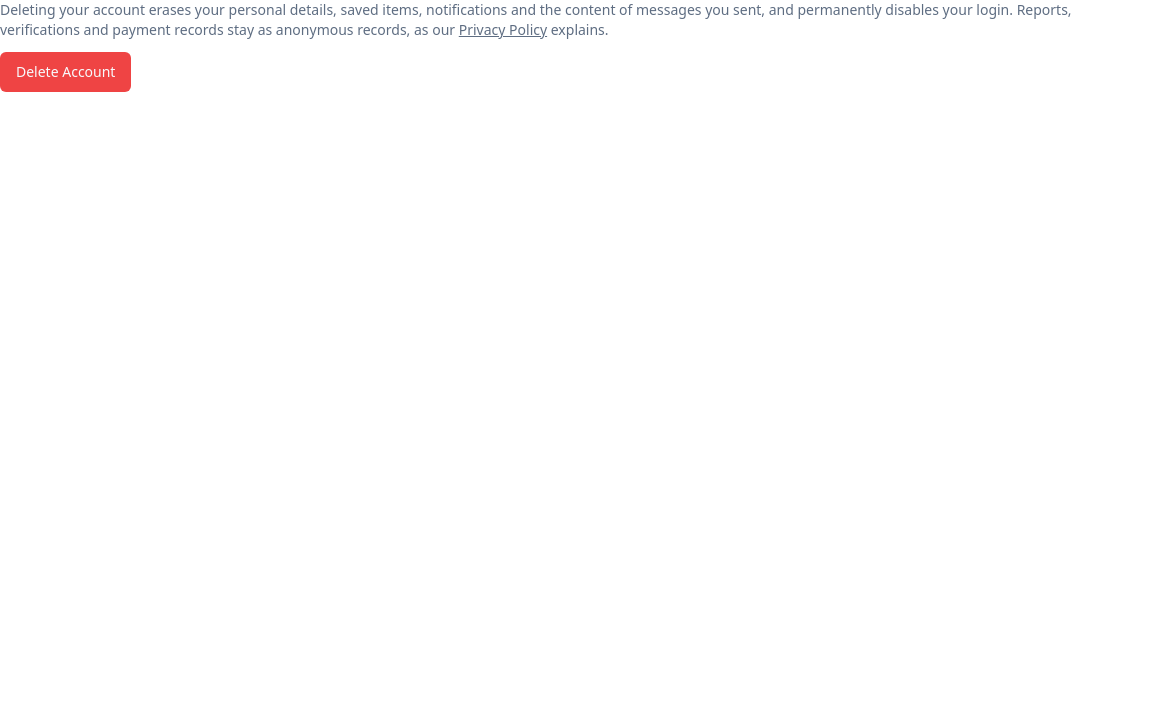
DeleteAccountCard › only enables deletion once DELETE is typed
Click the button "Delete Account": point(66, 72) [0,52,131,92]
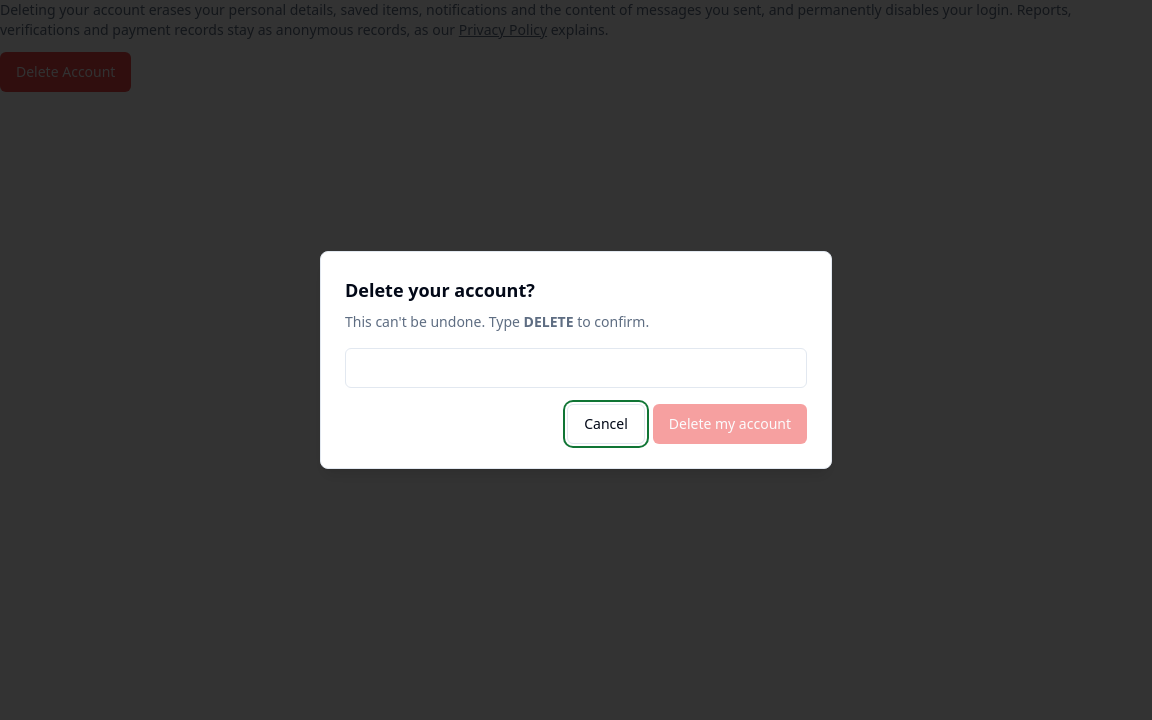
Check: the button "Delete my account" is disabled, box [653,404,807,444]
In the field named "Type DELETE to confirm": point(576, 368) [345,348,807,388], type "delete"
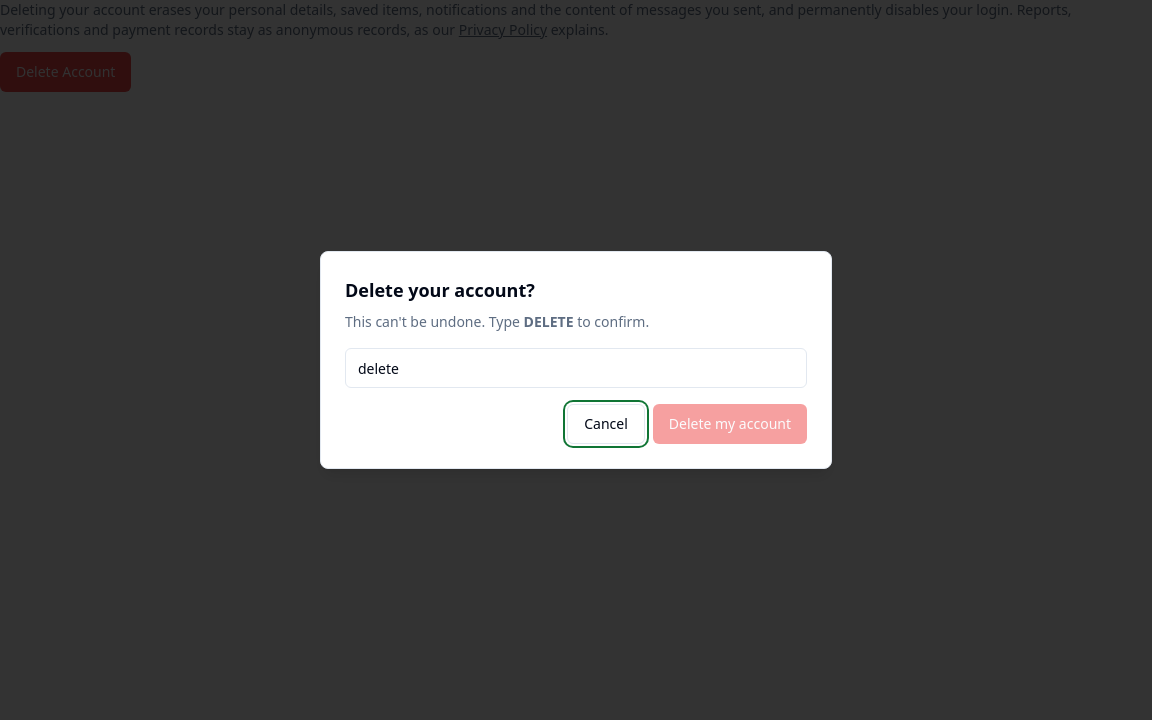
Check: the button "Delete my account" is disabled, box [653,404,807,444]
Replace the text in the field named "Type DELETE to confirm" with "DELETE": point(576, 368) [345,348,807,388]
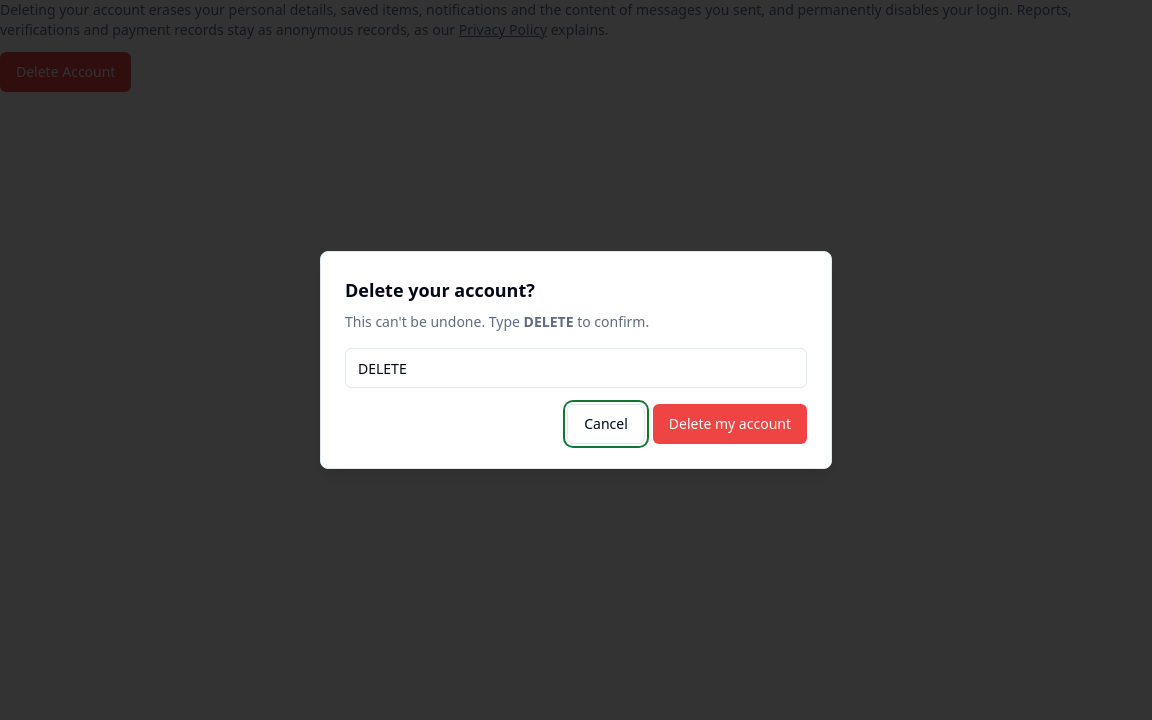
Check: the button "Delete my account" is enabled, box [653,404,807,444]
